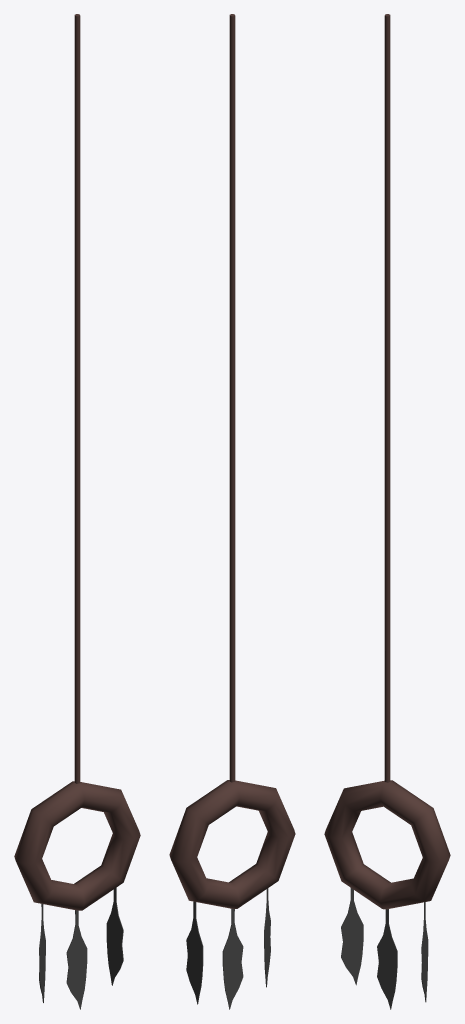
The model's file is dreamcatcher_001.fbx.
3 views of the same model, side by side, from view 1: azimuth 30°, elevation 25°; view 2: azimuth 210°, elevation 25°; view 3: azimuth 330°, elevation 25° (orthographic).
Visible parts, largest first — view 1: dreamcatcher.001; view 2: dreamcatcher.001; view 3: dreamcatcher.001.
Boxes of the visible parts, left/top/right/bottom form: dreamcatcher.001: left=14, top=14, right=140, bottom=1009; dreamcatcher.001: left=169, top=14, right=295, bottom=1009; dreamcatcher.001: left=324, top=14, right=450, bottom=1009.
Size of the model in its own units: 15.57 by 120 by 3.11.
